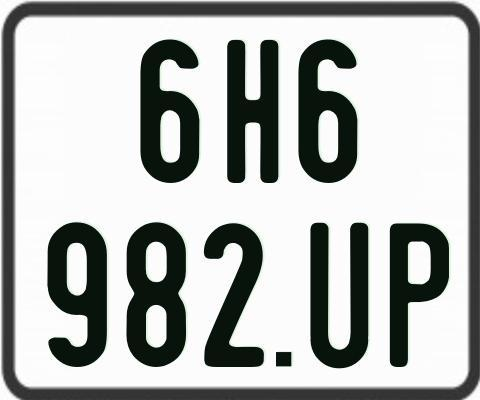2: (201, 222, 261, 368)
6: (140, 40, 204, 189), (297, 40, 362, 186)
8: (125, 221, 187, 371)
9: (45, 219, 105, 369)
H: (224, 39, 279, 183)
P: (387, 223, 450, 371)
U: (307, 223, 366, 374)
